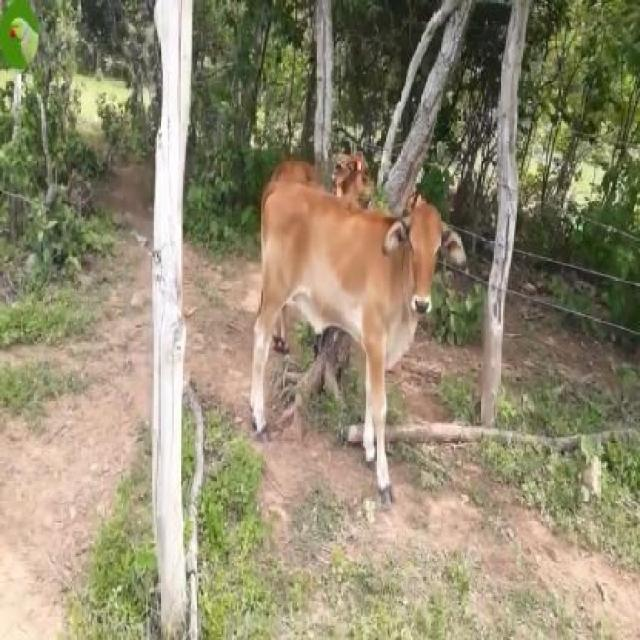Cow: (252, 185, 466, 512)
